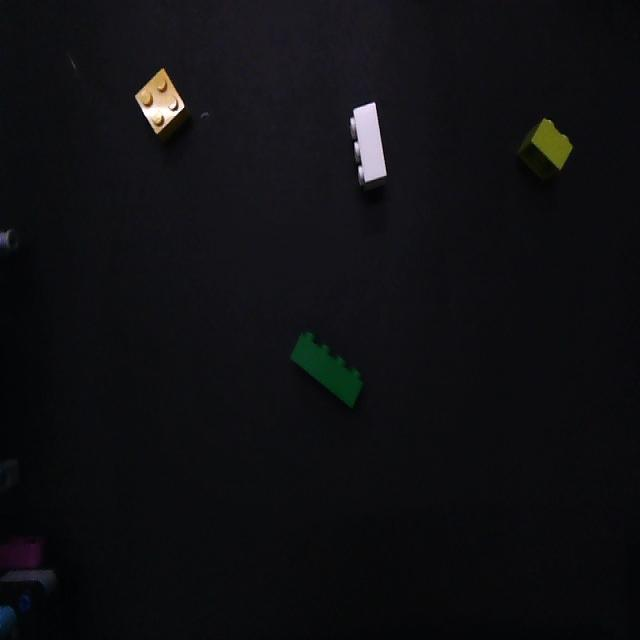lego_brick: (291, 333, 362, 405), (136, 69, 187, 136), (519, 119, 572, 177), (350, 103, 386, 185)
